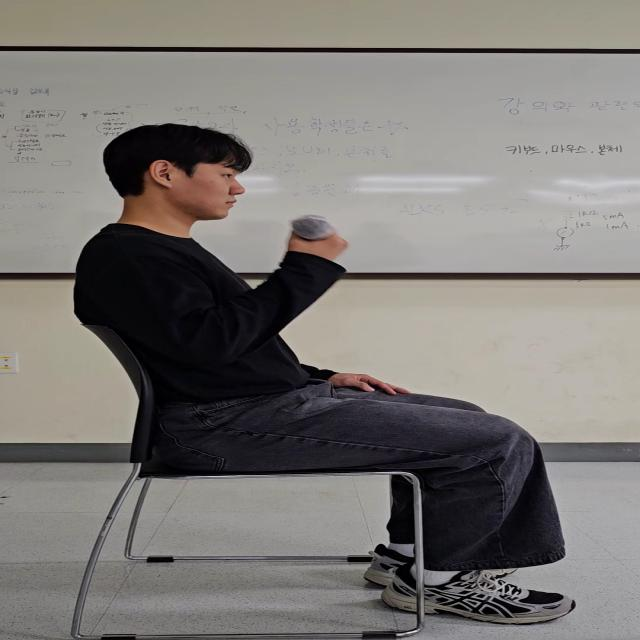curl: (124, 254, 319, 350)
